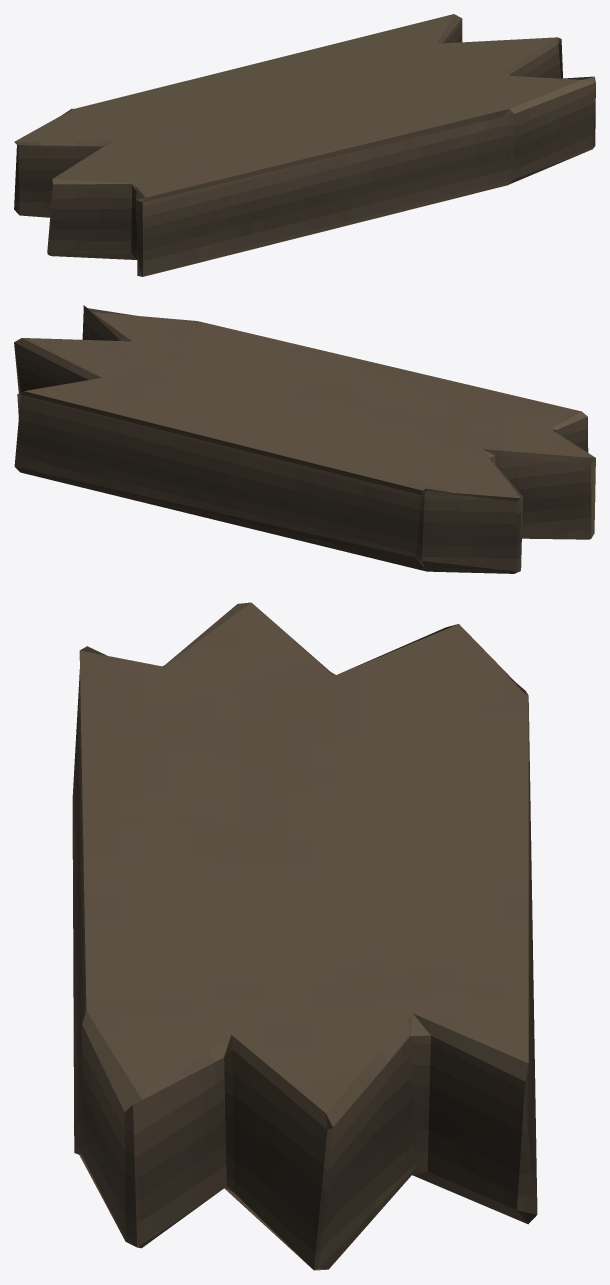
File: plank_chunk_01_godot.glb
3 views of the same model, one above another, from view 1: azimuth 30°, elevation 25°; view 2: azimuth 150°, elevation 25°; view 3: azimuth 270°, elevation 25° (orthographic). The views are drawn at different scales.
Visible parts, largest first — view 1: plank_chunk_01; view 2: plank_chunk_01; view 3: plank_chunk_01.
Boxes of the visible parts, x1,y1,x2,y2 form: plank_chunk_01: (14,14,595,276); plank_chunk_01: (14,305,595,573); plank_chunk_01: (72,602,537,1270).
Size of what is drawn, in the model's own units: 0.3291 by 0.0498 by 0.1239.
Materials: 1 (1 with a texture image).
